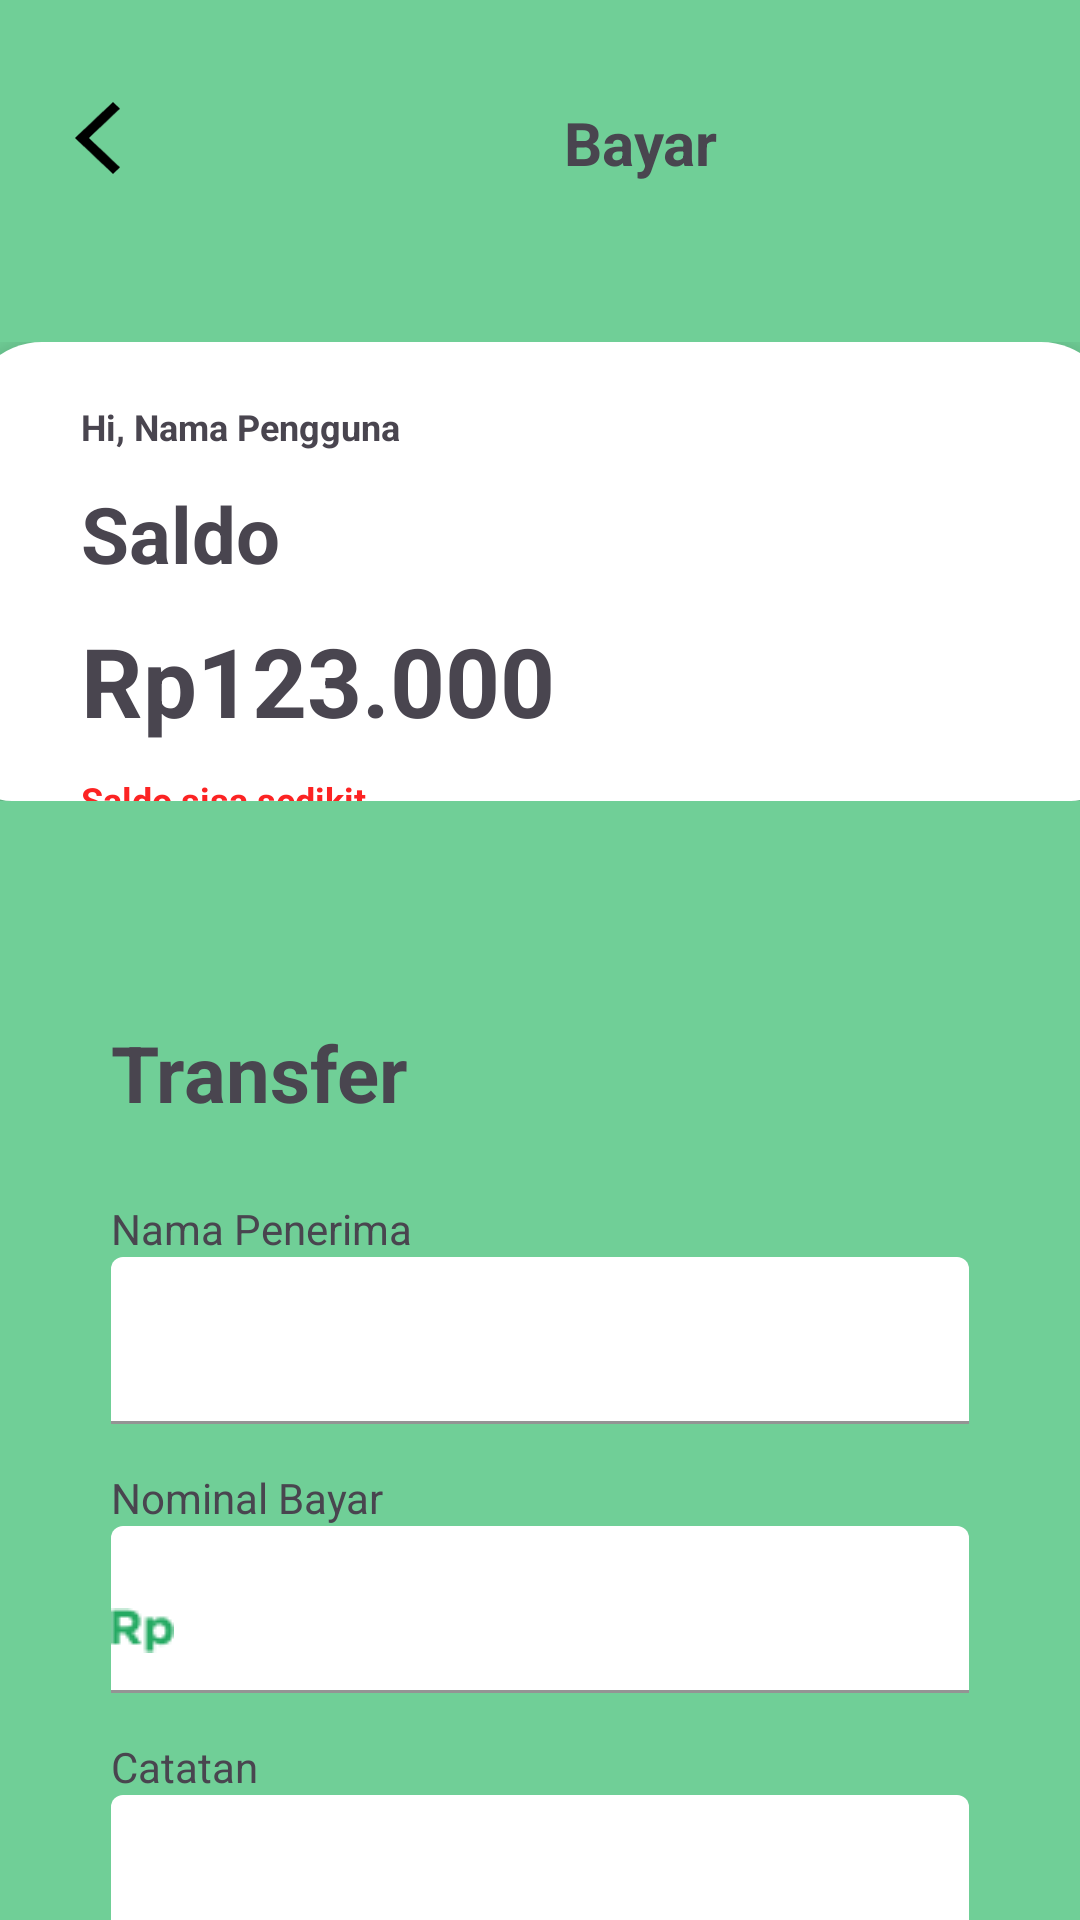

Named icons in this screenshot (1080px x 1920px) and their centers, (x=x, y=y):
iconback: (x=97, y=138)
